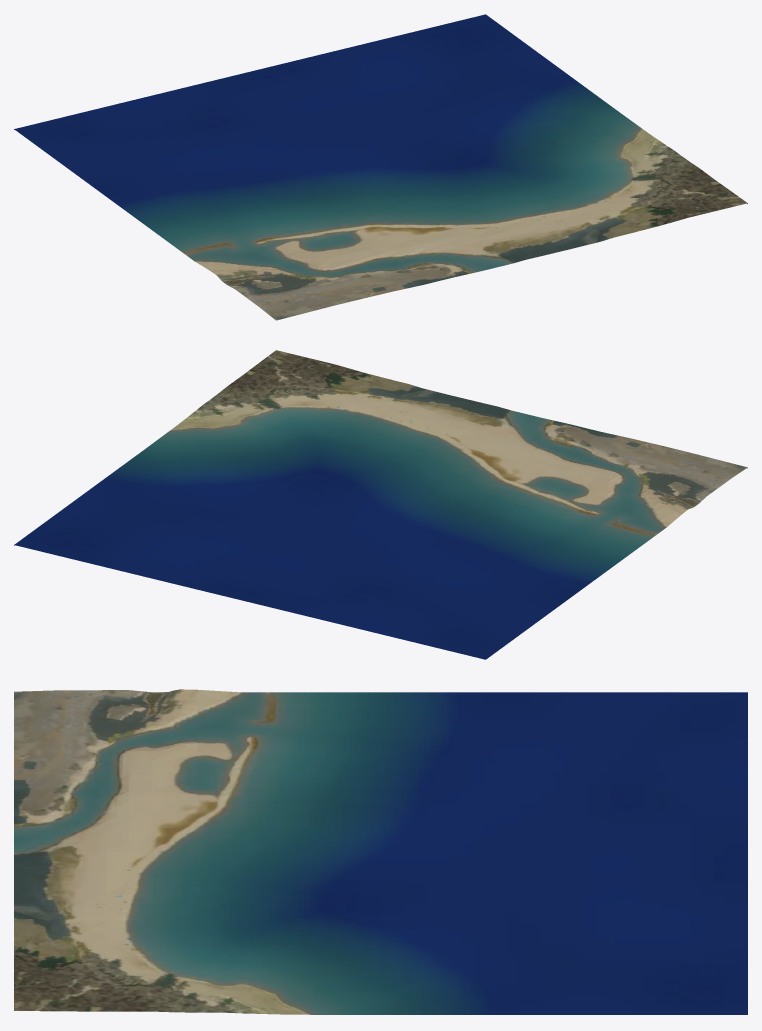
The picture shows the model from 3 angles, top to bottom: view 1: azimuth 30°, elevation 25°; view 2: azimuth 150°, elevation 25°; view 3: azimuth 270°, elevation 25°; orthographic projection. The views are drawn at different scales.
Size of the model in its own units: 500 by 4.18 by 481.
Materials: 1 (1 with a texture image).
